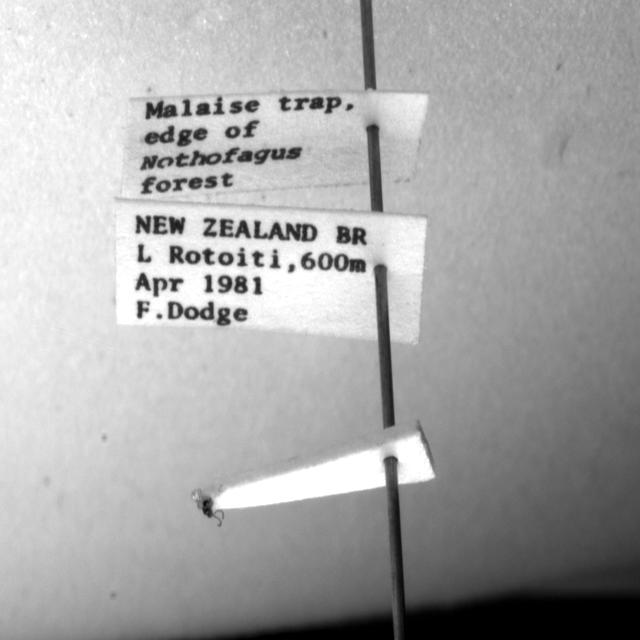typed_label: (116, 199, 428, 343), (121, 90, 429, 199)
